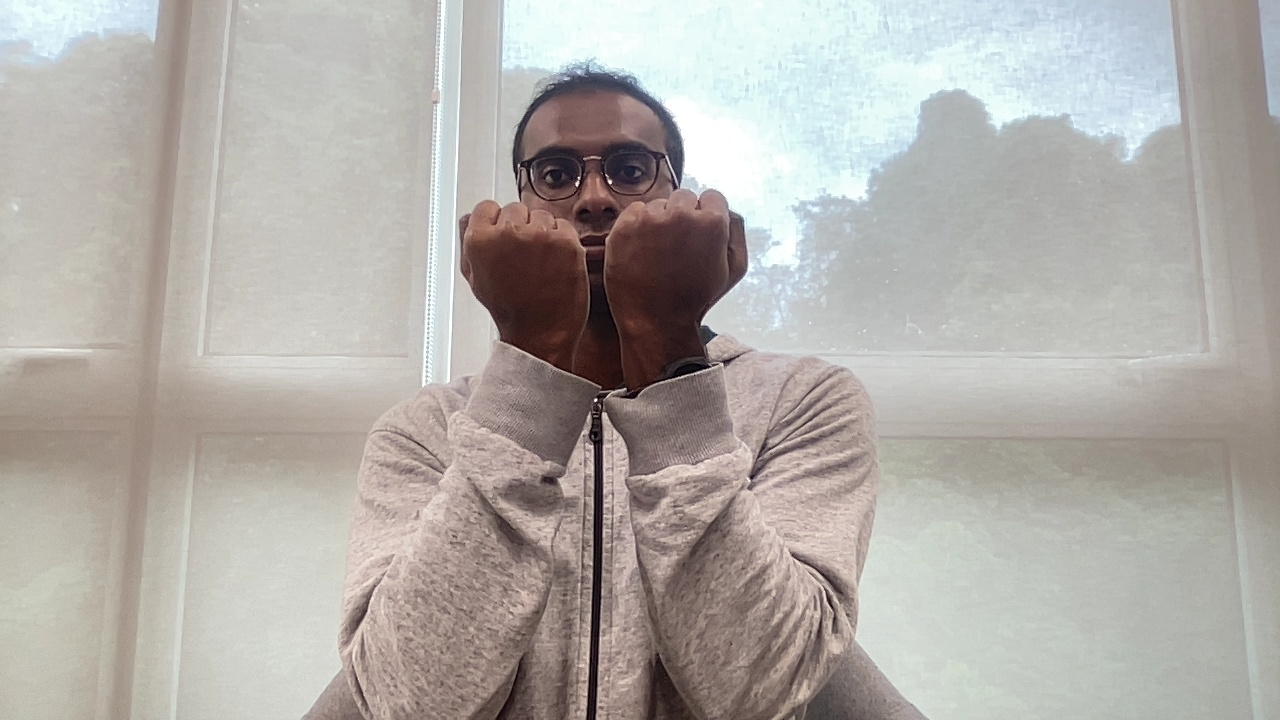finish: (452, 184, 756, 364)
